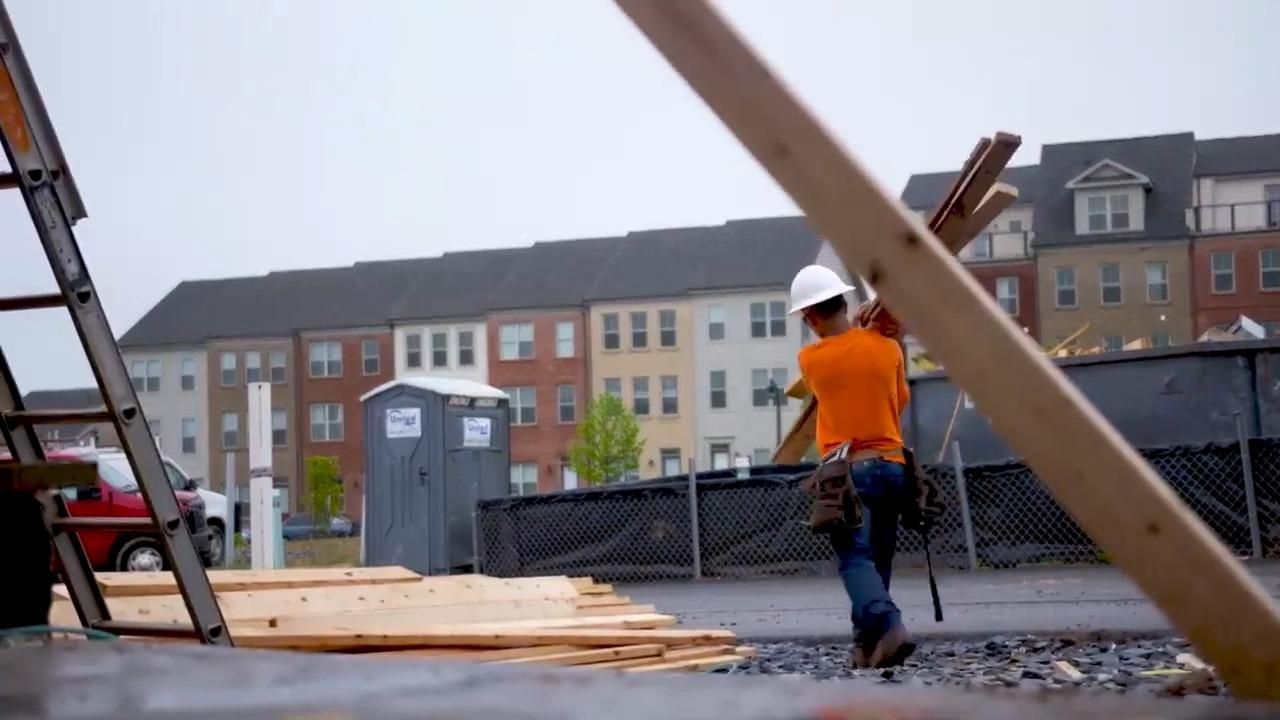Helmet: (785, 262, 856, 316)
Person: (779, 259, 925, 668)
Safety Boot: (850, 620, 916, 669)
no-vest: (795, 326, 910, 462)
